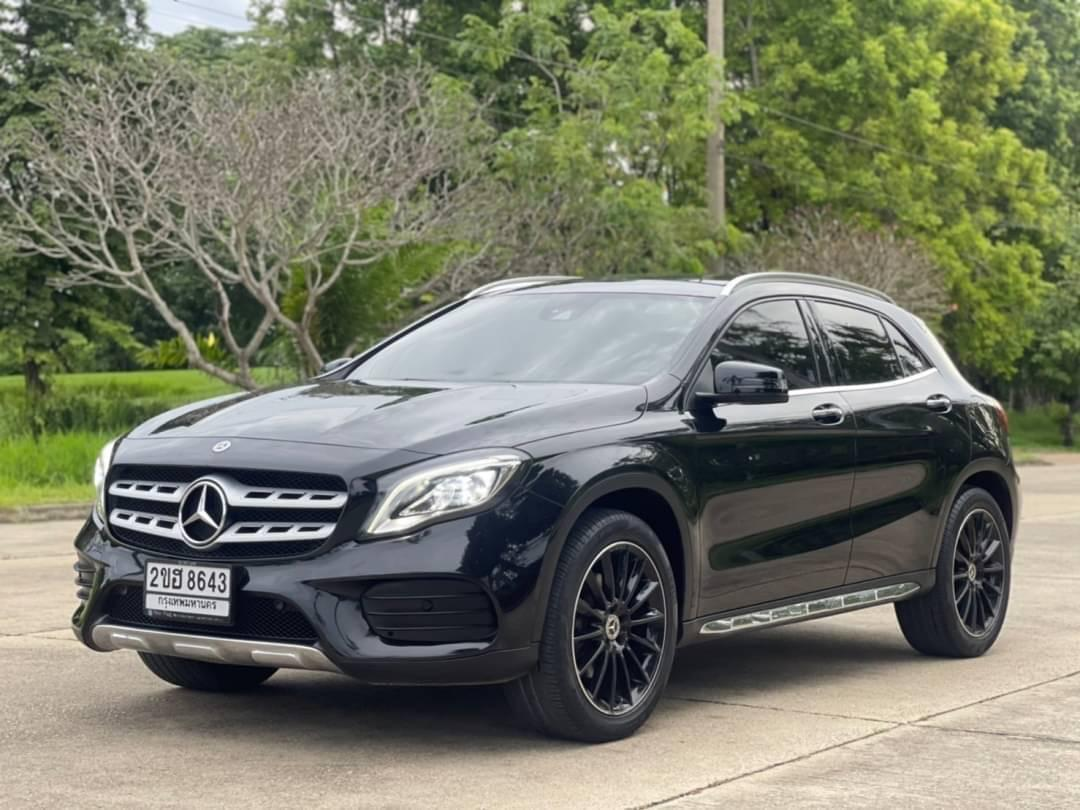license-plate: (143, 549, 239, 624)
